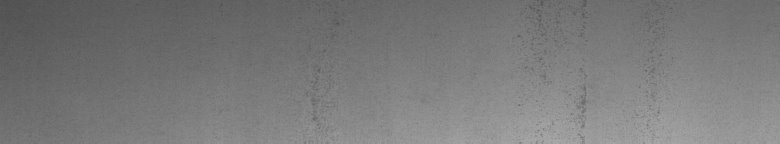ib: (524, 4, 655, 136)
